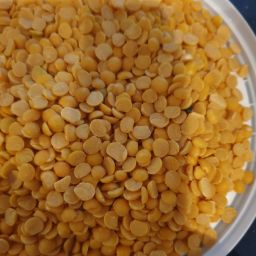Pigeon Pea(toor daal): (6, 3, 256, 256), (21, 14, 251, 195), (83, 50, 236, 255), (37, 110, 122, 255)
